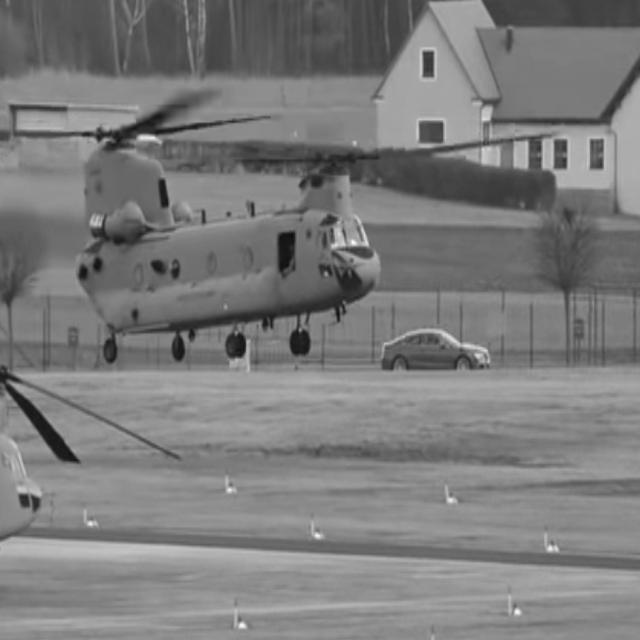Car: (381, 330, 490, 370)
Helicopter: (76, 90, 380, 363)
